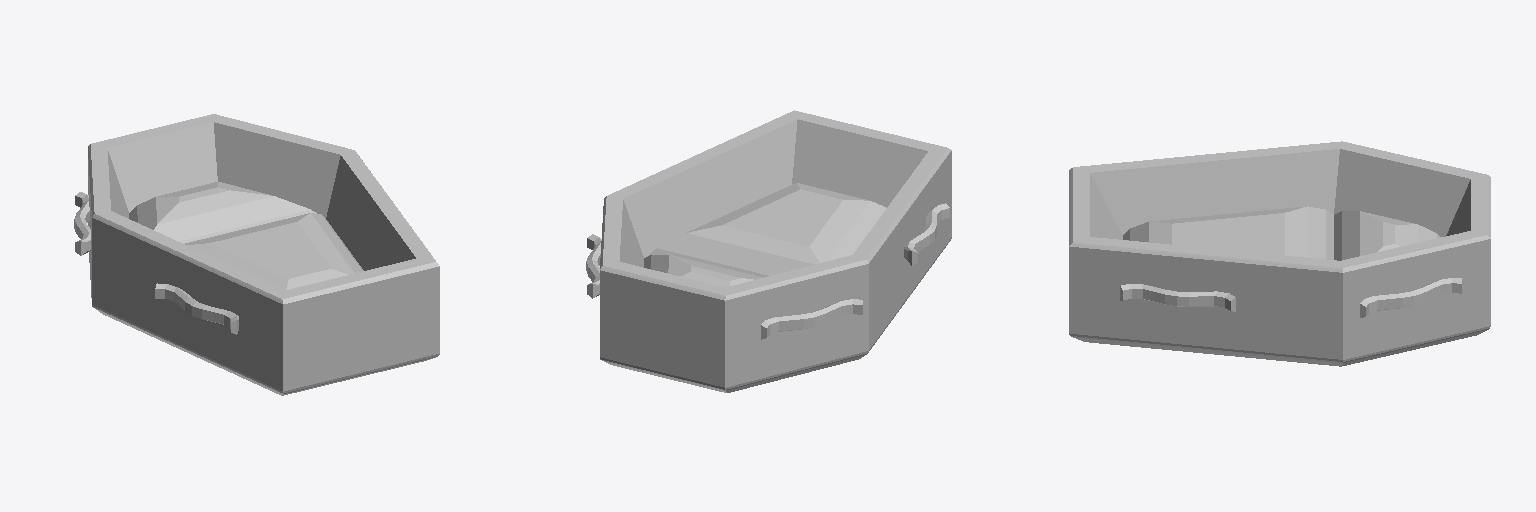
File: coffinA_bottom.obj
3 renders of one model, left to right at view 1: azimuth 30°, elevation 25°; view 2: azimuth 150°, elevation 25°; view 3: azimuth 270°, elevation 25°, orthographic.
Visible parts, largest first — view 1: coffinA_bottom_Cube.014; view 2: coffinA_bottom_Cube.014; view 3: coffinA_bottom_Cube.014.
Boxes of the visible parts, <box> form: coffinA_bottom_Cube.014: <box>74,114,439,395</box>; coffinA_bottom_Cube.014: <box>586,110,951,392</box>; coffinA_bottom_Cube.014: <box>1069,141,1490,366</box>.
Size of the model in its own units: 1.51 by 0.5355 by 2.